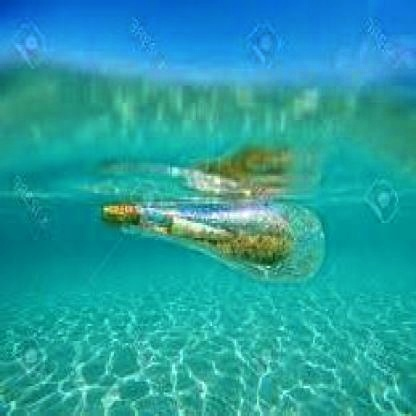gbottle: (101, 199, 328, 288)
